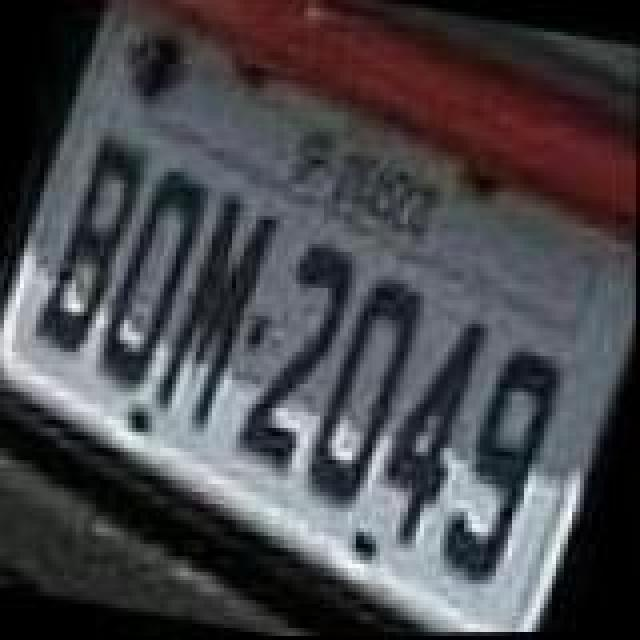2: (234, 234, 366, 478)
4: (370, 308, 490, 552)
9: (434, 342, 570, 590)
B: (32, 132, 156, 360)
M: (152, 190, 288, 438)
O: (300, 274, 428, 518), (92, 162, 220, 394)
